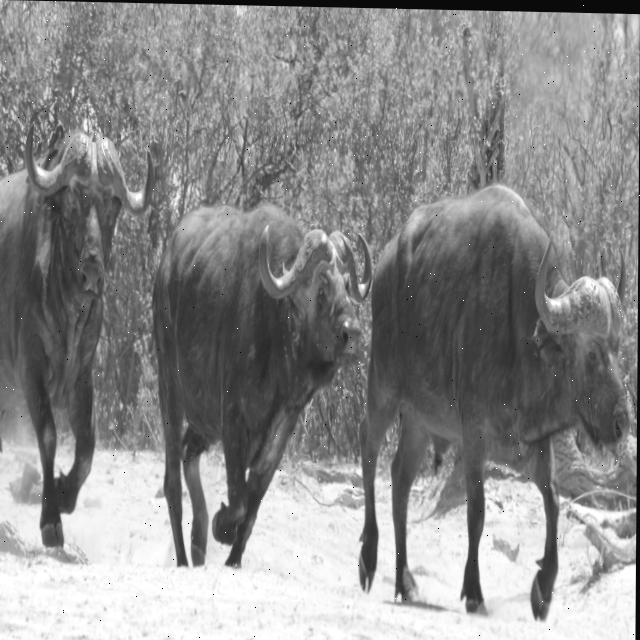Buffalo: (359, 177, 628, 619), (151, 204, 374, 574), (0, 104, 157, 548)
